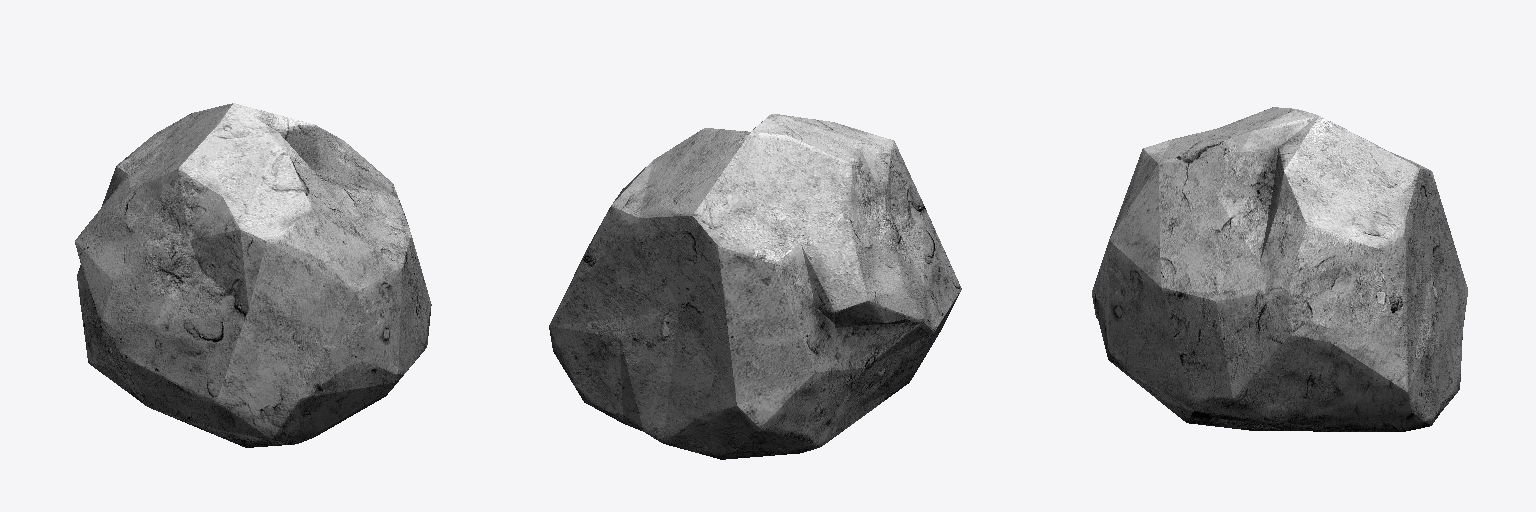
The picture shows the model from 3 angles: view 1: azimuth 30°, elevation 25°; view 2: azimuth 150°, elevation 25°; view 3: azimuth 270°, elevation 25°; orthographic projection.
Parts seen in each view (by area): view 1: stone; view 2: stone; view 3: stone.
Part boxes in pixels (bbox=[...]): stone: bbox=[75, 103, 431, 447]; stone: bbox=[549, 114, 961, 459]; stone: bbox=[1092, 107, 1467, 431].
Bounding box in the file's own units: 4.41 × 3.78 × 4.64.
1 materials, 1 textured.